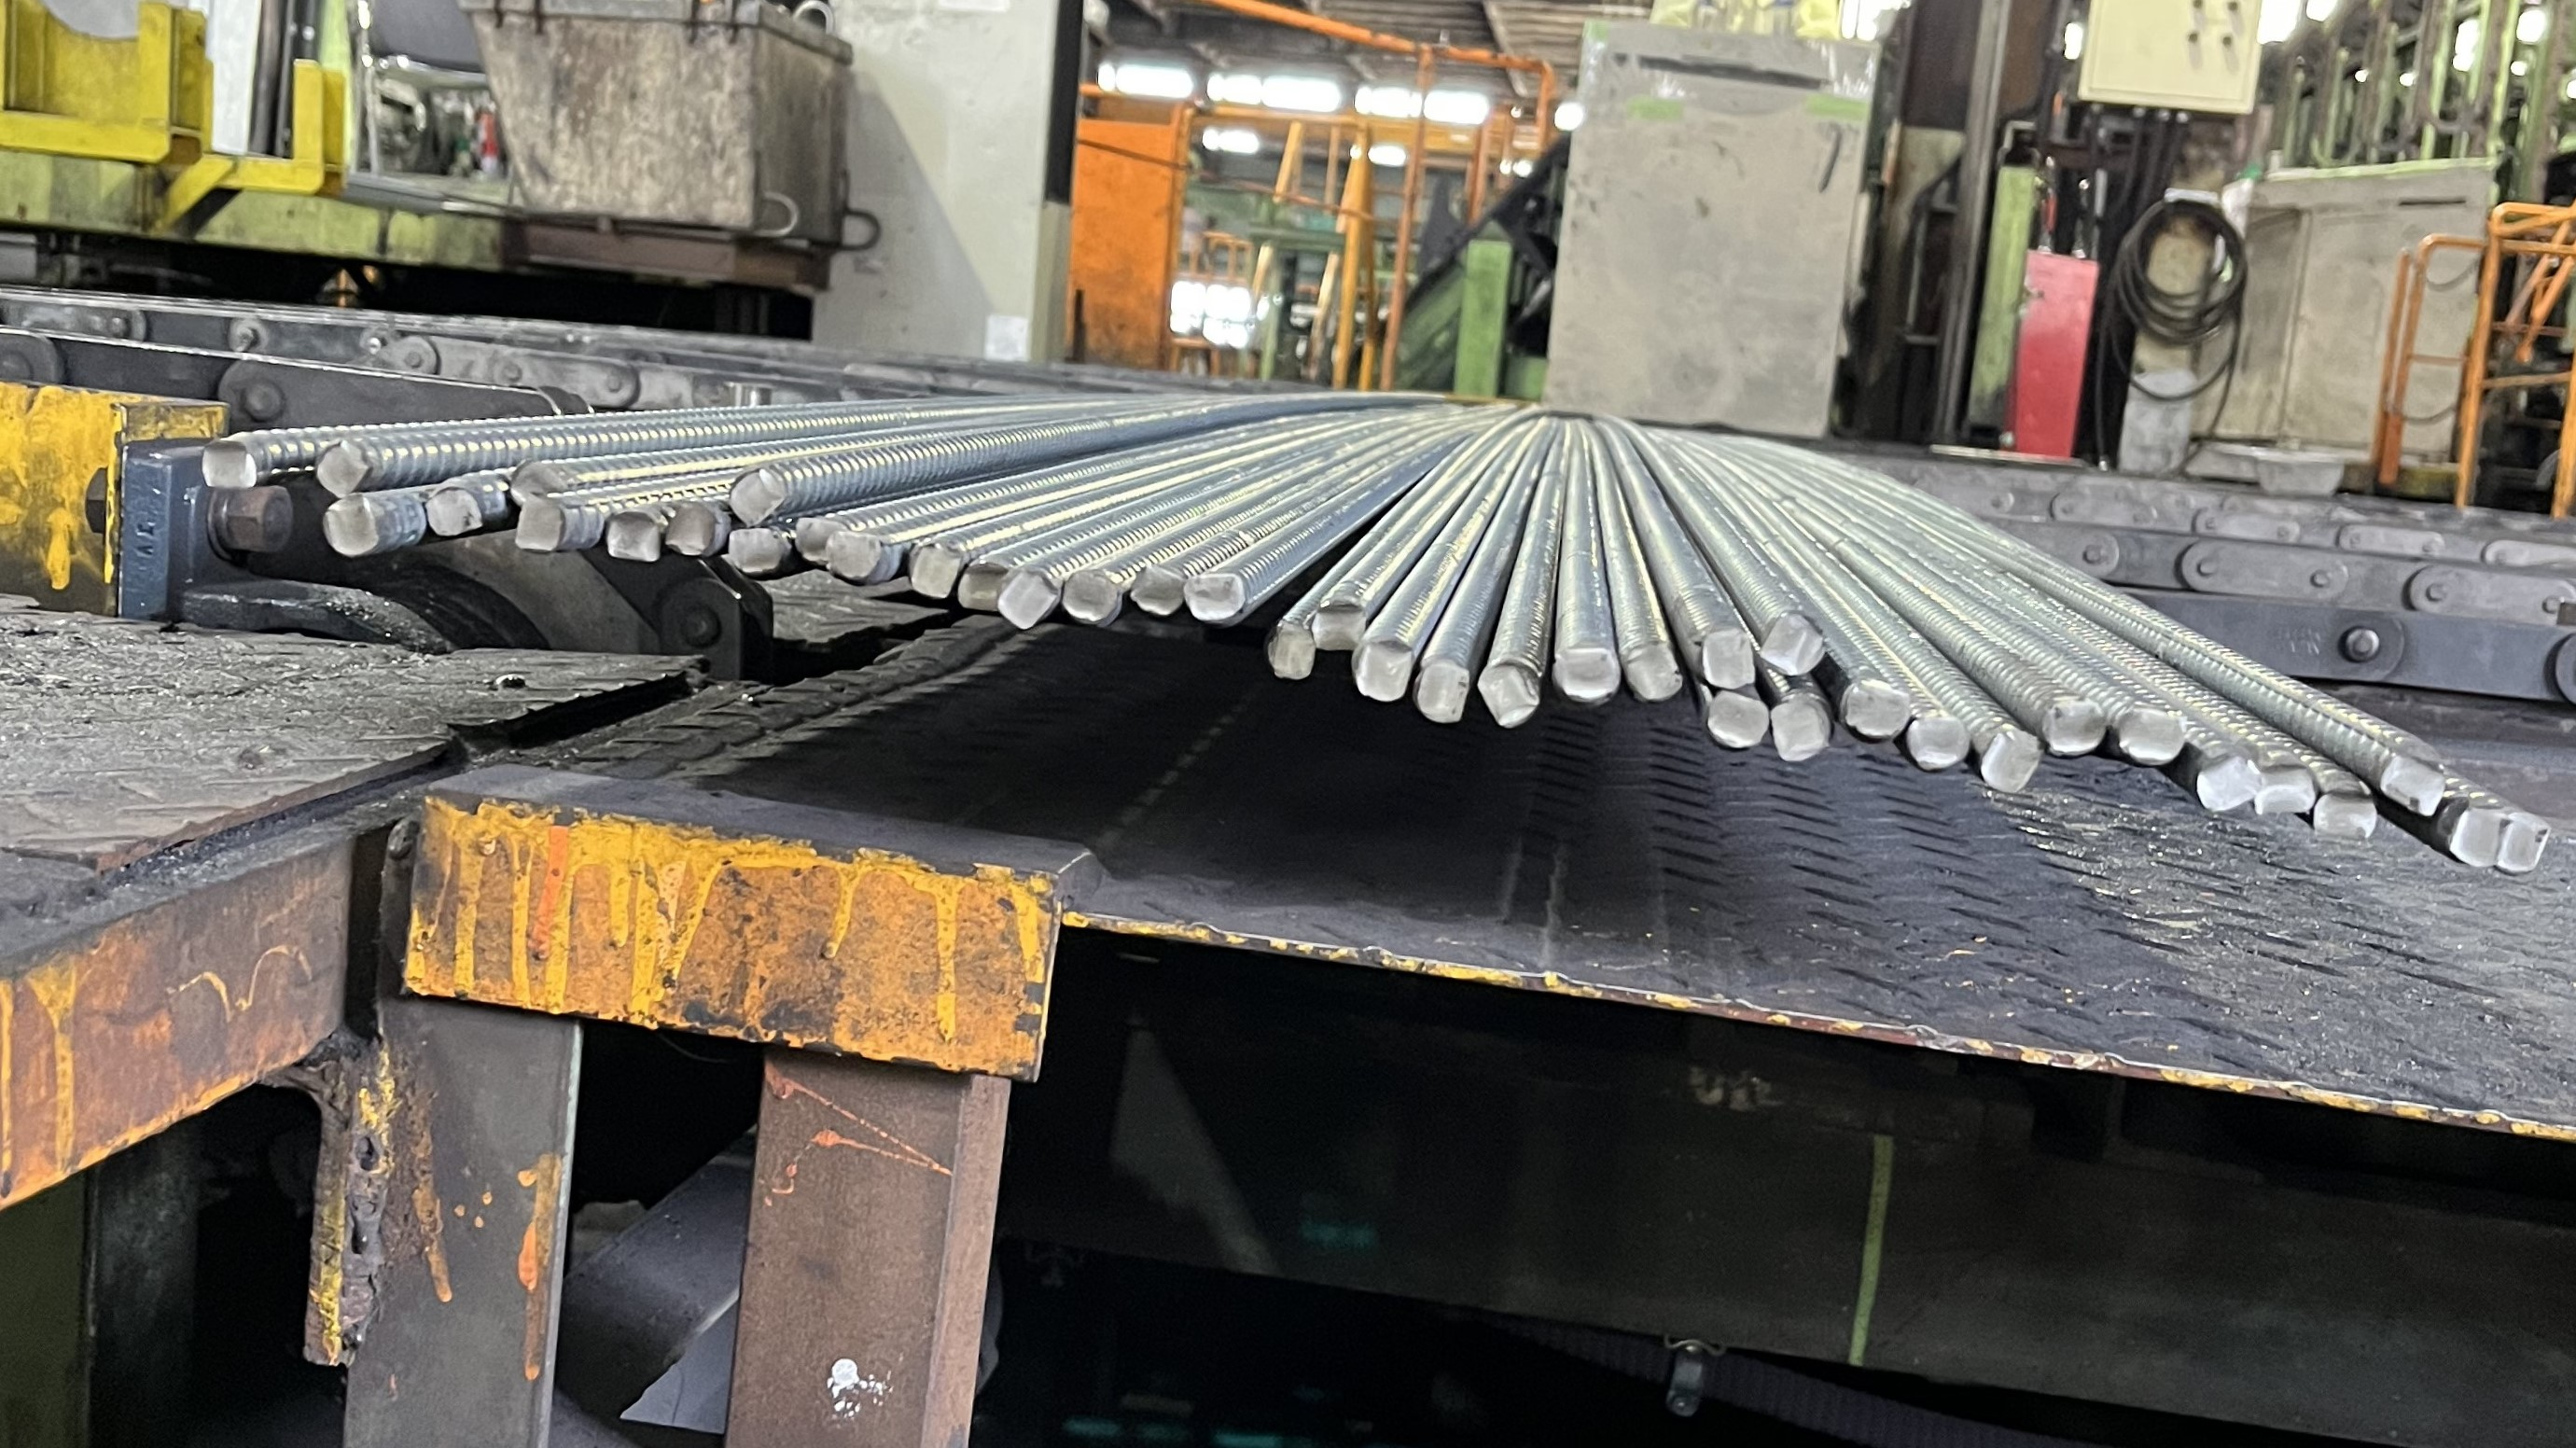rod: (1759, 611, 1829, 678), (2376, 754, 2447, 820), (1836, 678, 1913, 738), (1477, 660, 1543, 729), (1978, 726, 2043, 793), (2114, 708, 2187, 768), (1350, 635, 1414, 703), (318, 492, 382, 558), (1704, 689, 1771, 751), (2040, 697, 2109, 758), (998, 566, 1062, 630), (2447, 804, 2509, 869), (1698, 625, 1759, 692), (1904, 712, 1971, 772), (1622, 639, 1684, 703), (1769, 697, 1829, 763), (1553, 646, 1622, 703), (1412, 659, 1472, 722), (2194, 752, 2261, 809), (196, 437, 267, 490), (2254, 761, 2319, 818), (2311, 788, 2380, 841), (1062, 566, 1122, 627), (423, 485, 488, 540), (311, 439, 372, 497), (729, 467, 787, 526), (904, 542, 961, 600), (1309, 598, 1371, 651), (2498, 809, 2549, 873), (667, 499, 724, 556), (823, 528, 879, 584), (603, 510, 662, 565), (1182, 574, 1246, 623), (1129, 561, 1185, 616), (954, 561, 1012, 614), (1267, 620, 1316, 682), (725, 526, 784, 577), (793, 512, 846, 565), (508, 458, 564, 508), (517, 501, 568, 554)
